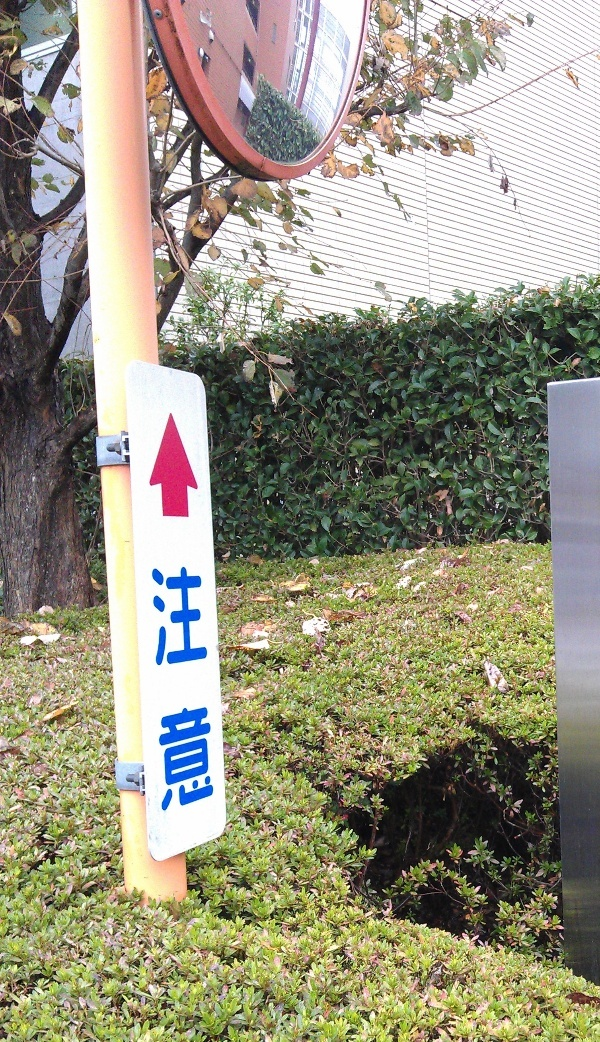text: (161, 563, 176, 815), (177, 563, 192, 815), (193, 563, 208, 815), (147, 563, 160, 815), (209, 563, 216, 815)
